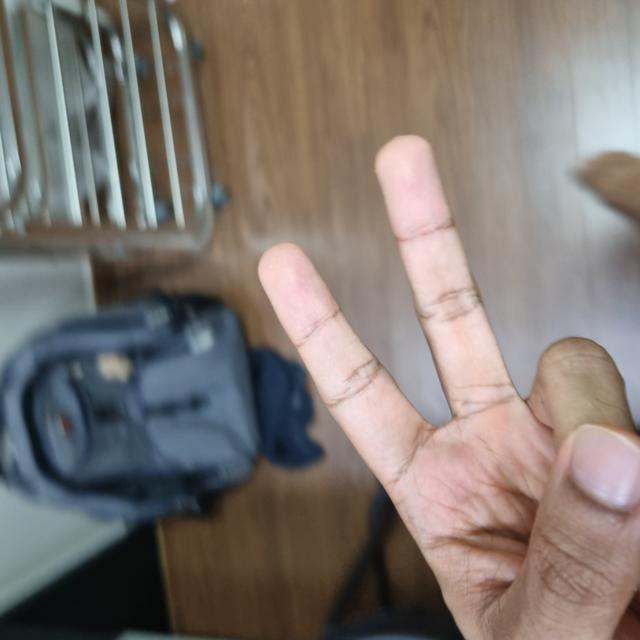Scissors: (0, 262, 502, 639)
